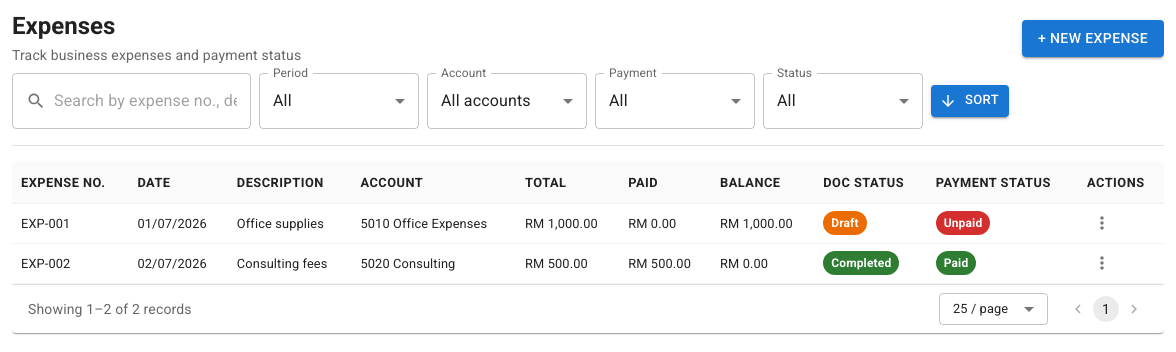
Test: ExpensesPage › offers Completed in the document status filter
Click the dropdown named "Status" at (786,101), box [777, 91, 796, 110]
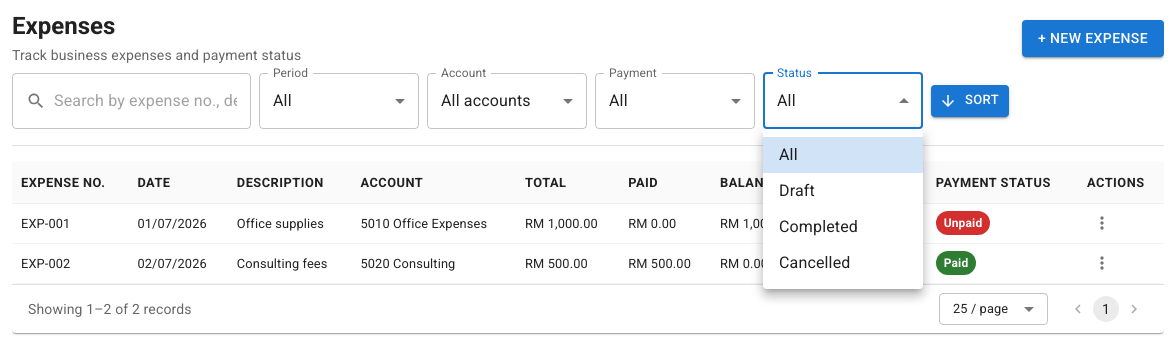
Expected: the option "Completed" is shown, [779, 217, 858, 236]
Expected: the option "Draft" is shown, [779, 181, 815, 200]
Expected: the option "Cancelled" is shown, [779, 253, 850, 272]
